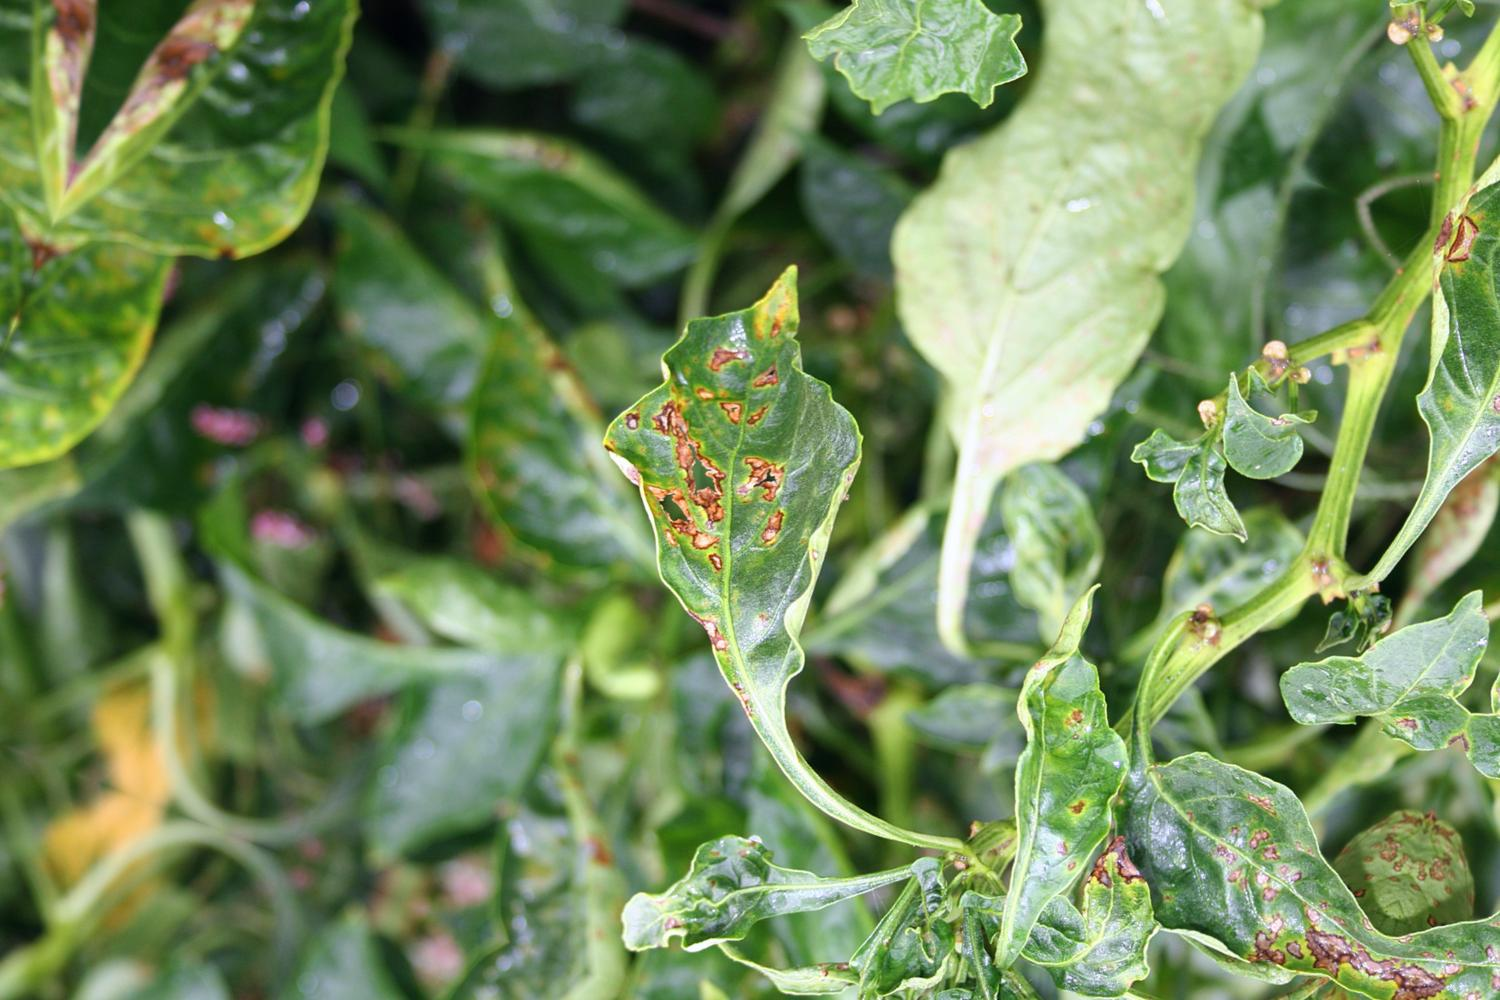Tomato leaf bacterial spot: (497, 211, 988, 776), (55, 0, 444, 343), (905, 616, 1185, 969), (1089, 735, 1410, 1000)
